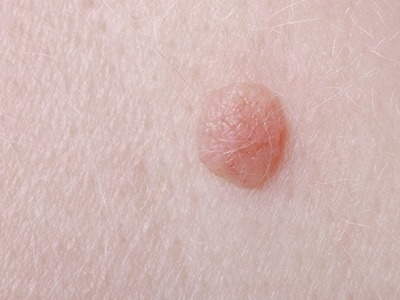Warts: (176, 59, 298, 215)
